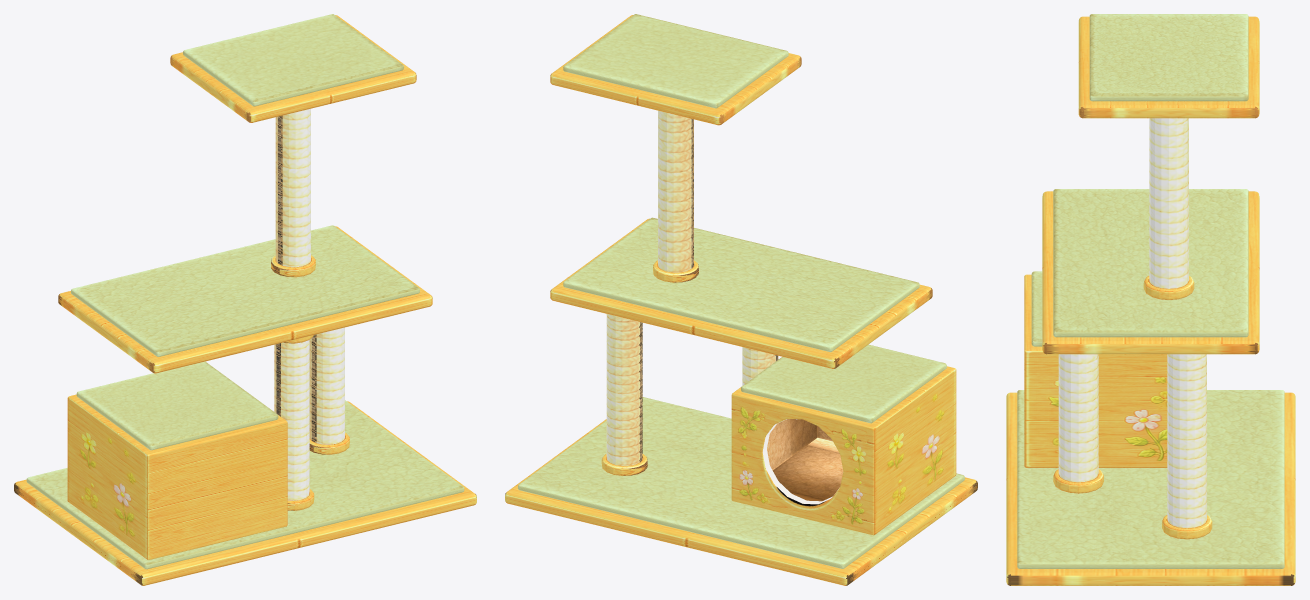
The model's file is cat_tower_green_01_muted_unlit.glb.
3 views of the same model, side by side, from view 1: azimuth 30°, elevation 25°; view 2: azimuth 150°, elevation 25°; view 3: azimuth 270°, elevation 25° (orthographic). The views are drawn at different scales.
Visible parts, largest first — view 1: cat_tower_mesh; view 2: cat_tower_mesh; view 3: cat_tower_mesh.
Boxes of the visible parts, left/top/right/bottom form: cat_tower_mesh: left=14, top=14, right=476, bottom=585; cat_tower_mesh: left=505, top=14, right=977, bottom=585; cat_tower_mesh: left=1006, top=14, right=1295, bottom=585.
Size of the model in its own units: 2.4 by 2.88 by 1.6.
Materials: 25 (24 with a texture image).
